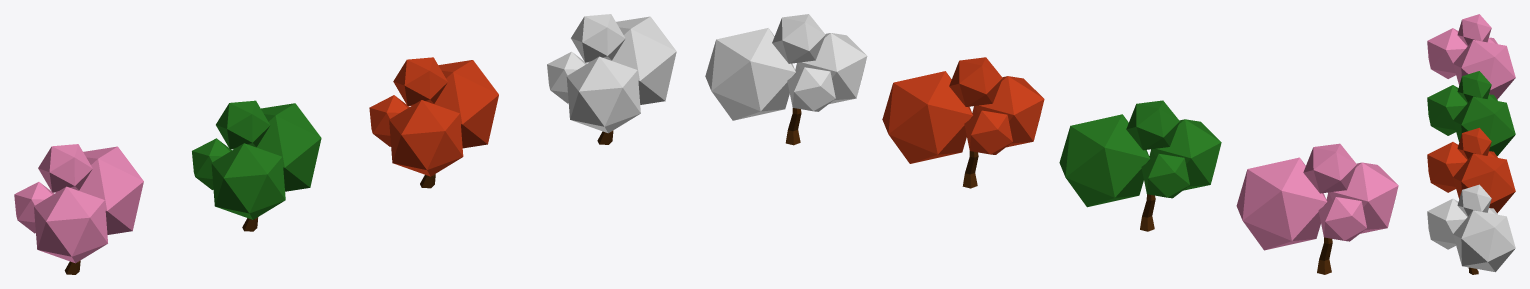
Rendered from tree.glb.
The picture shows the model from 3 angles, left to right: view 1: azimuth 30°, elevation 25°; view 2: azimuth 150°, elevation 25°; view 3: azimuth 270°, elevation 25°; orthographic projection. The views are drawn at different scales.
Visible parts, largest first — view 1: summer, autumn, winter, spring; view 2: spring, autumn, summer, winter; view 3: winter, spring, summer, autumn.
Boxes of the visible parts, <box> form: summer: <box>192,100,321,231</box>; autumn: <box>369,57,498,188</box>; winter: <box>547,14,676,144</box>; spring: <box>14,144,143,274</box>; spring: <box>1236,143,1398,274</box>; autumn: <box>882,57,1044,188</box>; summer: <box>1059,100,1221,231</box>; winter: <box>705,14,867,145</box>; winter: <box>1427,184,1515,274</box>; spring: <box>1427,14,1515,99</box>; summer: <box>1427,71,1515,156</box>; autumn: <box>1427,127,1515,213</box>.
Size of what is drawn, in the model's own units: 7.44 by 1.36 by 1.32.
